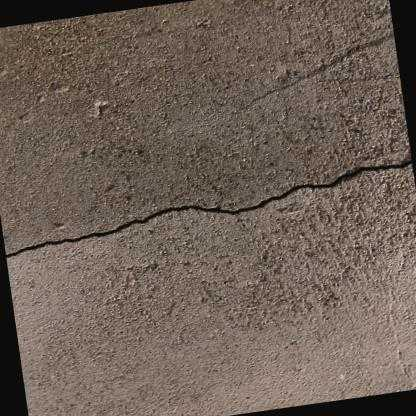crack: (5, 151, 412, 258)
